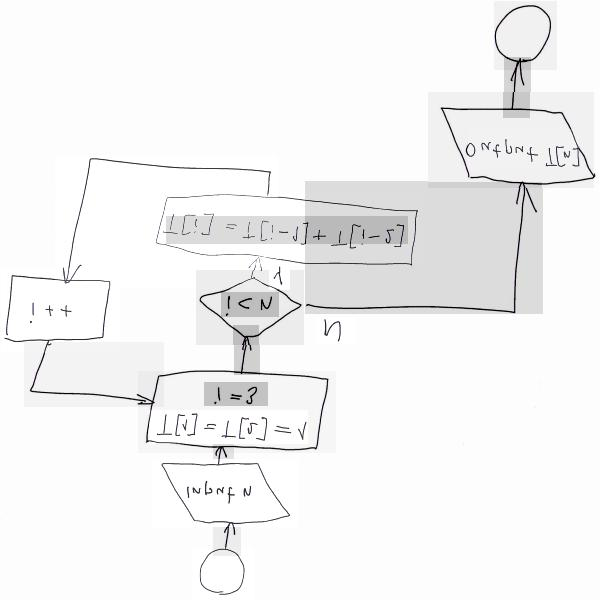arrow: (305, 181, 543, 314), (55, 155, 278, 289), (24, 342, 164, 407), (504, 57, 531, 117), (234, 325, 260, 375), (213, 516, 241, 556), (239, 256, 269, 283), (213, 444, 234, 463)
data: (429, 92, 594, 187), (152, 459, 298, 526)
decision: (197, 270, 304, 345)
process: (152, 194, 423, 266), (138, 371, 336, 453), (1, 268, 120, 353)
terminator: (494, 1, 557, 70), (192, 547, 254, 600)
text: (166, 216, 408, 244), (149, 410, 308, 444), (469, 128, 580, 168), (187, 472, 255, 505), (26, 296, 76, 328), (204, 382, 268, 406), (222, 292, 280, 317), (316, 317, 356, 345), (269, 266, 290, 290)
